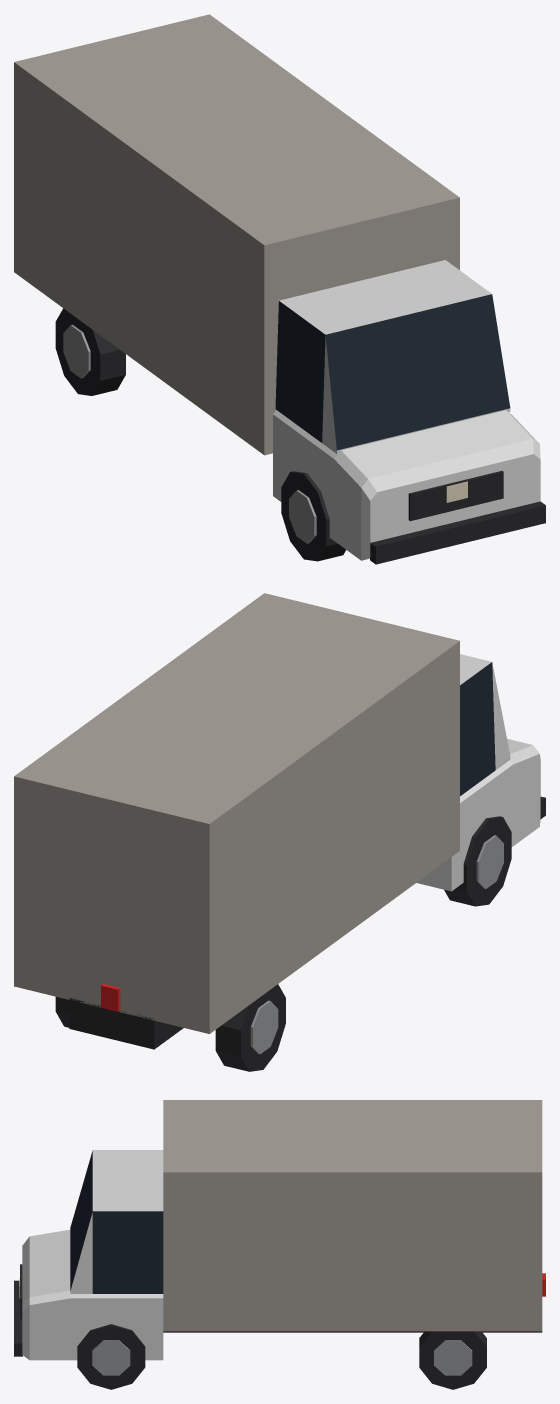
Rendered from voiture_camion.glb.
3 renders of one model, top to bottom at view 1: azimuth 30°, elevation 25°; view 2: azimuth 150°, elevation 25°; view 3: azimuth 270°, elevation 25°, orthographic. The views are drawn at different scales.
Visible parts, largest first — view 1: voiture_camion; view 2: voiture_camion; view 3: voiture_camion.
Boxes of the visible parts, bbox=[...] form: voiture_camion: bbox=[14, 14, 545, 564]; voiture_camion: bbox=[14, 593, 545, 1071]; voiture_camion: bbox=[14, 1100, 545, 1389].
Bounding box in the file's own units: 2.3 × 3.26 × 7.16.
